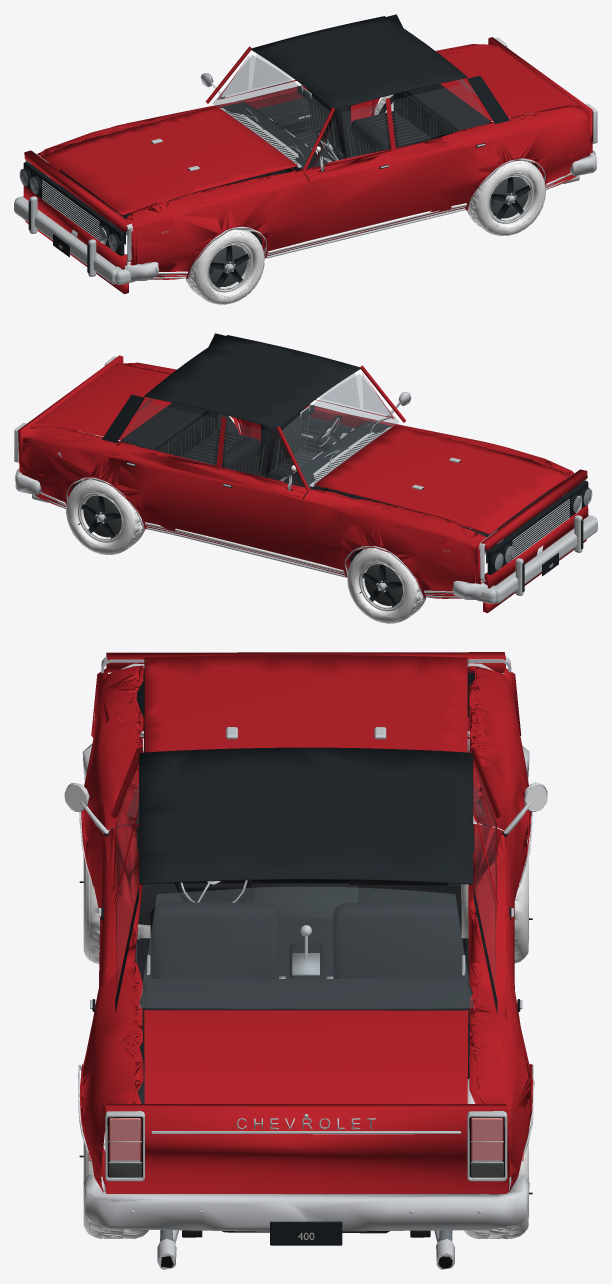
The model's file is chevy_400_1957-lod2.glb.
3 renders of one model, top to bottom at view 1: azimuth 30°, elevation 25°; view 2: azimuth 150°, elevation 25°; view 3: azimuth 270°, elevation 25°, orthographic. The views are drawn at different scales.
Parts seen in each view (by area): view 1: chevy_400_1957_static_Vehicle_Paint_400_Reference_Red, chevy_400_1957_hood_ReferenceContinuousRedSkin, chevy_400_1957_static_Vehicle_Glass_400_Reference, chevy_400_1957_static_Vehicle_VinylRoof_400_Reference, Interior__11_Black_leather, chevy_400_1957_static_Vehicle_Chrome_400_Reference, chevy_400_1957_static_Vehicle_SatinBlack_400_Reference, Rear_Left_Wheel__Radial_tire_modeled_channels, Front_Left_Wheel__Radial_tire_modeled_channels, Exterior__02_Black_lacquer, Exterior__03_Polished_chrome, Interior__12_Stitching (+12 smaller); view 2: chevy_400_1957_static_Vehicle_Paint_400_Reference_Red, chevy_400_1957_hood_ReferenceContinuousRedSkin, chevy_400_1957_static_Vehicle_Glass_400_Reference, chevy_400_1957_static_Vehicle_VinylRoof_400_Reference, Interior__11_Black_leather, chevy_400_1957_static_Vehicle_Chrome_400_Reference, chevy_400_1957_static_Vehicle_SatinBlack_400_Reference, Rear_Right_Wheel__Radial_tire_modeled_channels, Front_Right_Wheel__Radial_tire_modeled_channels, Exterior__02_Black_lacquer, Interior__12_Stitching, Exterior__03_Polished_chrome (+11 smaller); view 3: chevy_400_1957_static_Vehicle_Paint_400_Reference_Red, chevy_400_1957_static_Vehicle_VinylRoof_400_Reference, chevy_400_1957_static_Vehicle_Glass_400_Reference, Interior__11_Black_leather, chevy_400_1957_hood_ReferenceContinuousRedSkin, Bumpers__03_Polished_chrome, Underbody__14_Underbody, chevy_400_1957_static_Vehicle_SatinBlack_400_Reference, Front_Right_Wheel__Radial_tire_modeled_channels, Interior__13_Carpet, Interior__05_Black_grille, Front_Left_Wheel__Radial_tire_modeled_channels (+13 smaller).
Boxes of the visible parts, left/top/right/bottom form: chevy_400_1957_static_Vehicle_Paint_400_Reference_Red: left=23, top=37, right=592, bottom=294; chevy_400_1957_hood_ReferenceContinuousRedSkin: left=41, top=106, right=297, bottom=215; chevy_400_1957_static_Vehicle_Glass_400_Reference: left=213, top=54, right=489, bottom=168; chevy_400_1957_static_Vehicle_VinylRoof_400_Reference: left=251, top=14, right=509, bottom=124; Interior__11_Black_leather: left=220, top=83, right=491, bottom=180; chevy_400_1957_static_Vehicle_Chrome_400_Reference: left=14, top=144, right=571, bottom=284; chevy_400_1957_static_Vehicle_SatinBlack_400_Reference: left=20, top=143, right=484, bottom=257; Rear_Left_Wheel__Radial_tire_modeled_channels: left=467, top=160, right=545, bottom=235; Front_Left_Wheel__Radial_tire_modeled_channels: left=185, top=229, right=264, bottom=304; Exterior__02_Black_lacquer: left=158, top=108, right=570, bottom=274; Exterior__03_Polished_chrome: left=151, top=158, right=567, bottom=278; Interior__12_Stitching: left=271, top=93, right=453, bottom=157; chevy_400_1957_static_Vehicle_Paint_400_Reference_Red: left=18, top=355, right=588, bottom=613; chevy_400_1957_hood_ReferenceContinuousRedSkin: left=314, top=425, right=570, bottom=534; chevy_400_1957_static_Vehicle_Glass_400_Reference: left=122, top=373, right=398, bottom=487; chevy_400_1957_static_Vehicle_VinylRoof_400_Reference: left=102, top=333, right=360, bottom=442; Interior__11_Black_leather: left=120, top=402, right=391, bottom=499; chevy_400_1957_static_Vehicle_Chrome_400_Reference: left=57, top=452, right=597, bottom=603; chevy_400_1957_static_Vehicle_SatinBlack_400_Reference: left=126, top=462, right=591, bottom=575; Rear_Right_Wheel__Radial_tire_modeled_channels: left=66, top=479, right=144, bottom=554; Front_Right_Wheel__Radial_tire_modeled_channels: left=347, top=547, right=426, bottom=623; Exterior__02_Black_lacquer: left=40, top=427, right=453, bottom=593; Interior__12_Stitching: left=158, top=412, right=339, bottom=475; Exterior__03_Polished_chrome: left=45, top=477, right=460, bottom=597; chevy_400_1957_static_Vehicle_Paint_400_Reference_Red: left=79, top=652, right=533, bottom=1194; chevy_400_1957_static_Vehicle_VinylRoof_400_Reference: left=115, top=747, right=497, bottom=1013; chevy_400_1957_static_Vehicle_Glass_400_Reference: left=116, top=771, right=495, bottom=1008; Interior__11_Black_leather: left=135, top=826, right=474, bottom=1017; chevy_400_1957_hood_ReferenceContinuousRedSkin: left=144, top=655, right=467, bottom=752; Bumpers__03_Polished_chrome: left=82, top=738, right=529, bottom=1231; Underbody__14_Underbody: left=110, top=803, right=469, bottom=1237; chevy_400_1957_static_Vehicle_SatinBlack_400_Reference: left=92, top=673, right=520, bottom=1245; Front_Right_Wheel__Radial_tire_modeled_channels: left=461, top=816, right=528, bottom=963; Interior__13_Carpet: left=139, top=938, right=472, bottom=1062; Interior__05_Black_grille: left=162, top=879, right=349, bottom=978; Front_Left_Wheel__Radial_tire_modeled_channels: left=83, top=830, right=150, bottom=963.
Bounding box in the file's own units: 2 × 0.628 × 0.8466.
Materials: 55 (3 with a texture image).
